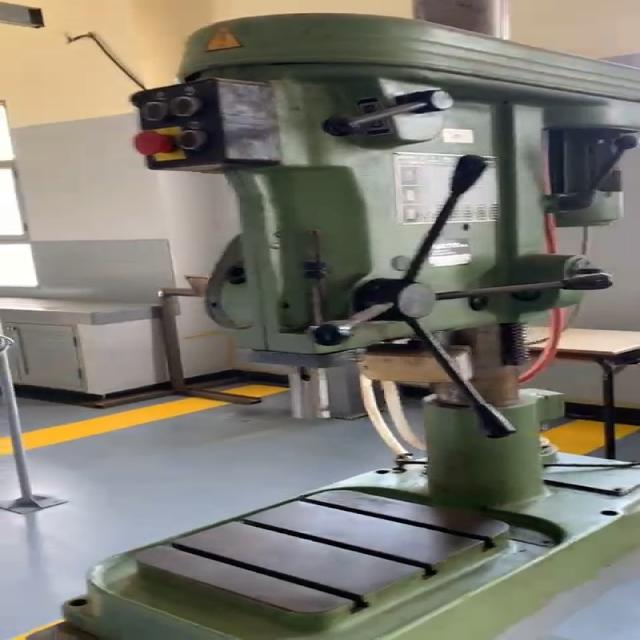perceuse: (13, 14, 640, 640)
